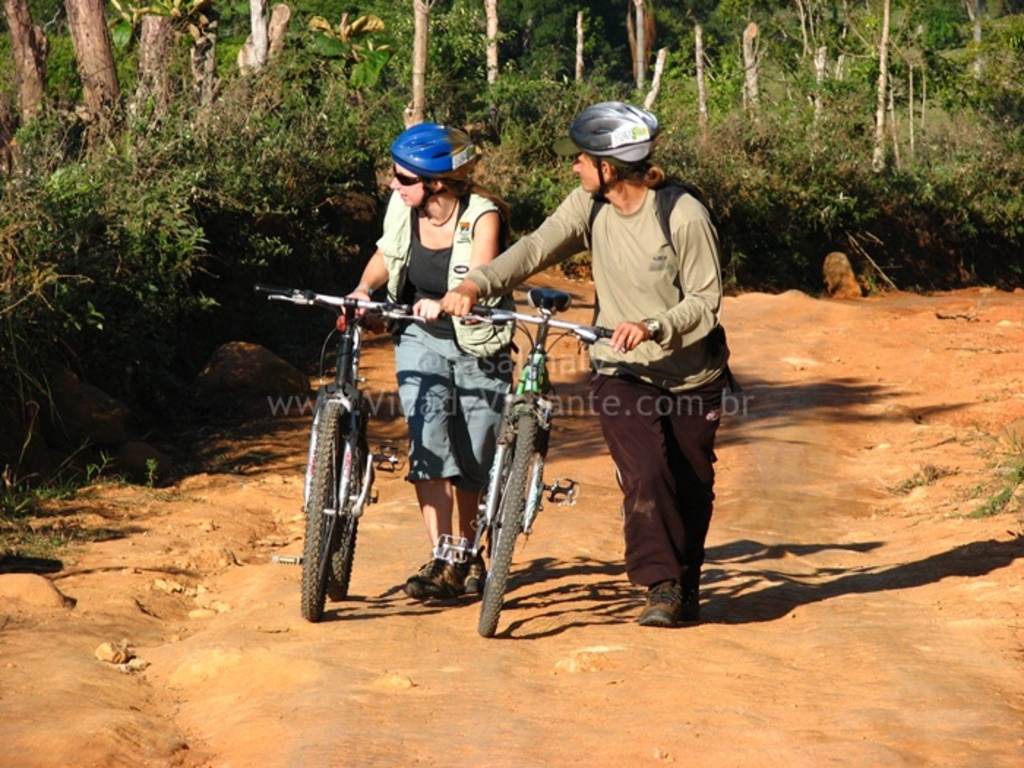Bike: (257, 286, 454, 619), (462, 284, 630, 645)
